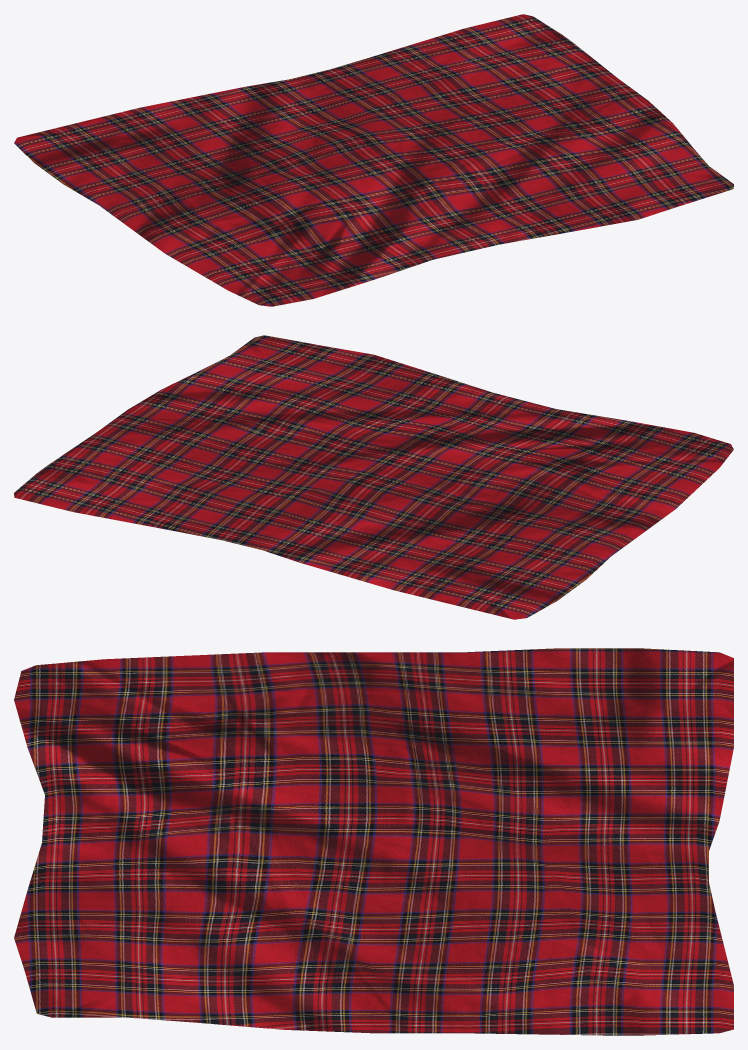
File: Sun_0022_Picnic_Blanket.fbx
3 views of the same model, one above another, from view 1: azimuth 30°, elevation 25°; view 2: azimuth 150°, elevation 25°; view 3: azimuth 270°, elevation 25° (orthographic). The views are drawn at different scales.
Parts seen in each view (by area): view 1: Sun_0022_Picnic_Blanket; view 2: Sun_0022_Picnic_Blanket; view 3: Sun_0022_Picnic_Blanket.
Boxes of the visible parts, left/top/right/bottom form: Sun_0022_Picnic_Blanket: left=14, top=14, right=733, bottom=306; Sun_0022_Picnic_Blanket: left=14, top=335, right=733, bottom=619; Sun_0022_Picnic_Blanket: left=14, top=648, right=733, bottom=1035.
Size of the model in its own units: 202 by 4.02 by 159.
